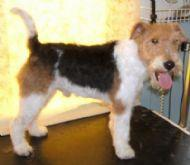wire-haired_fox_terrier: (6, 1, 189, 160)
